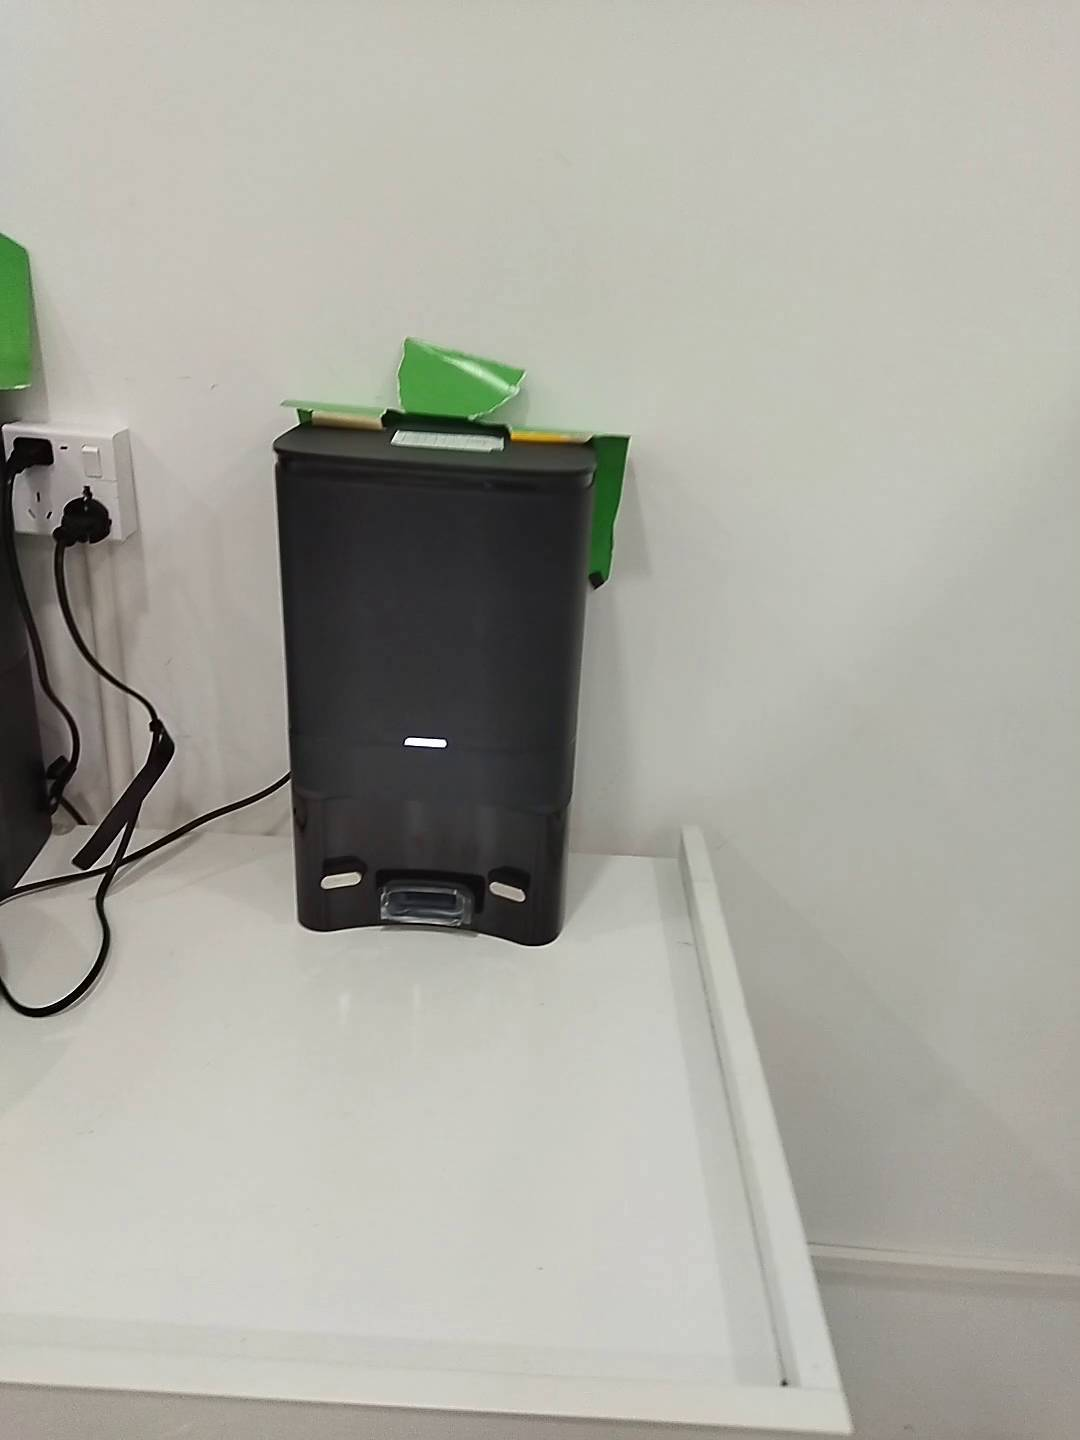dust collecting barrel: (272, 423, 596, 946)
